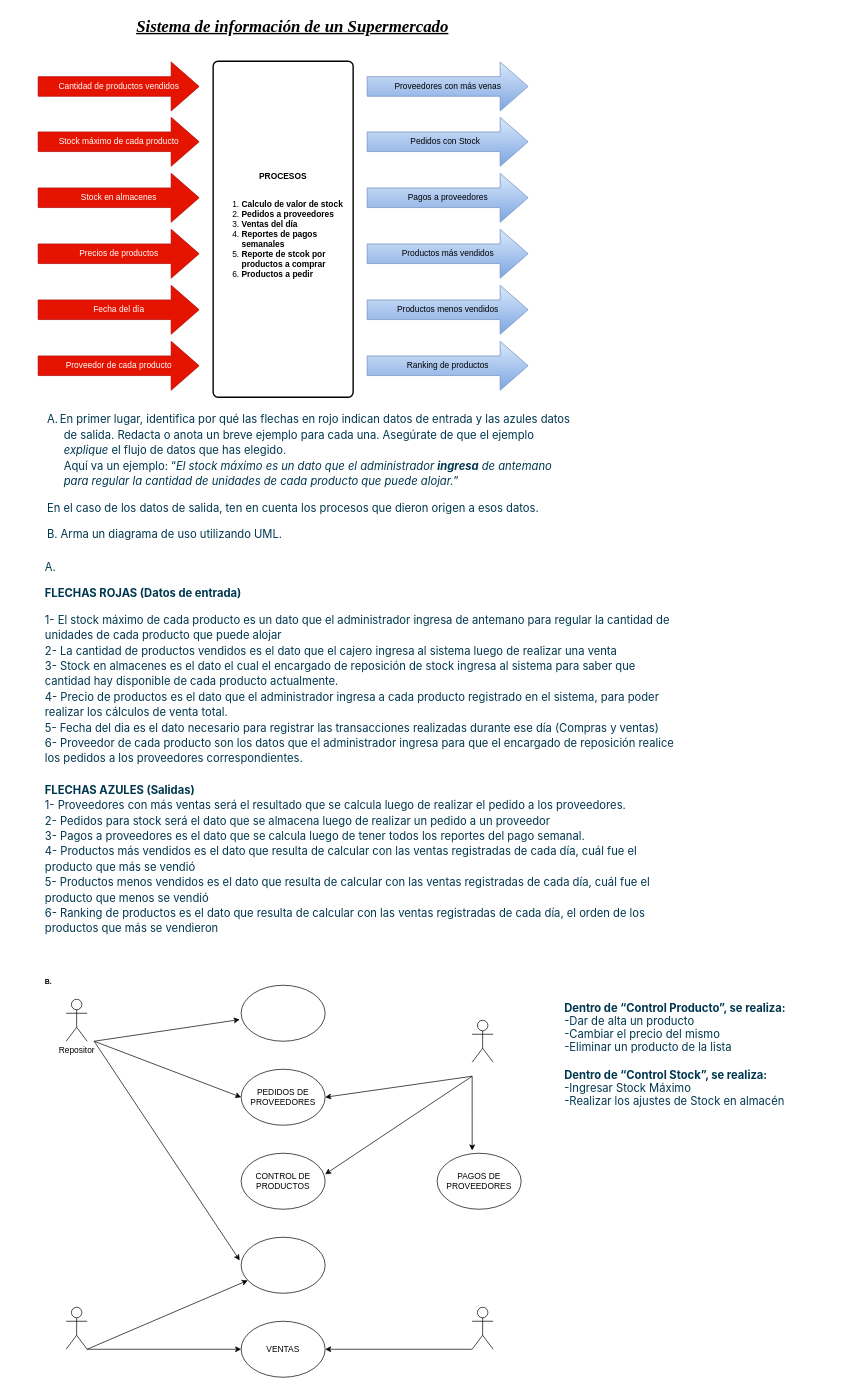
The diagram is 848 pixels wide and 1390 high, and some of its shapes have lost their labels. The shapes that lost their labels are listed below. From the top down, each one's box as (x1, y1, x2, y2) in pixels, then its label:
(240, 985, 325, 1041): CONTROL DE STOCK
(471, 1020, 493, 1062): Administrador
(240, 1237, 325, 1293): REPORTES DE PAGO SEMANALES
(65, 1307, 87, 1349): Cajero
(471, 1307, 493, 1349): Cliente
